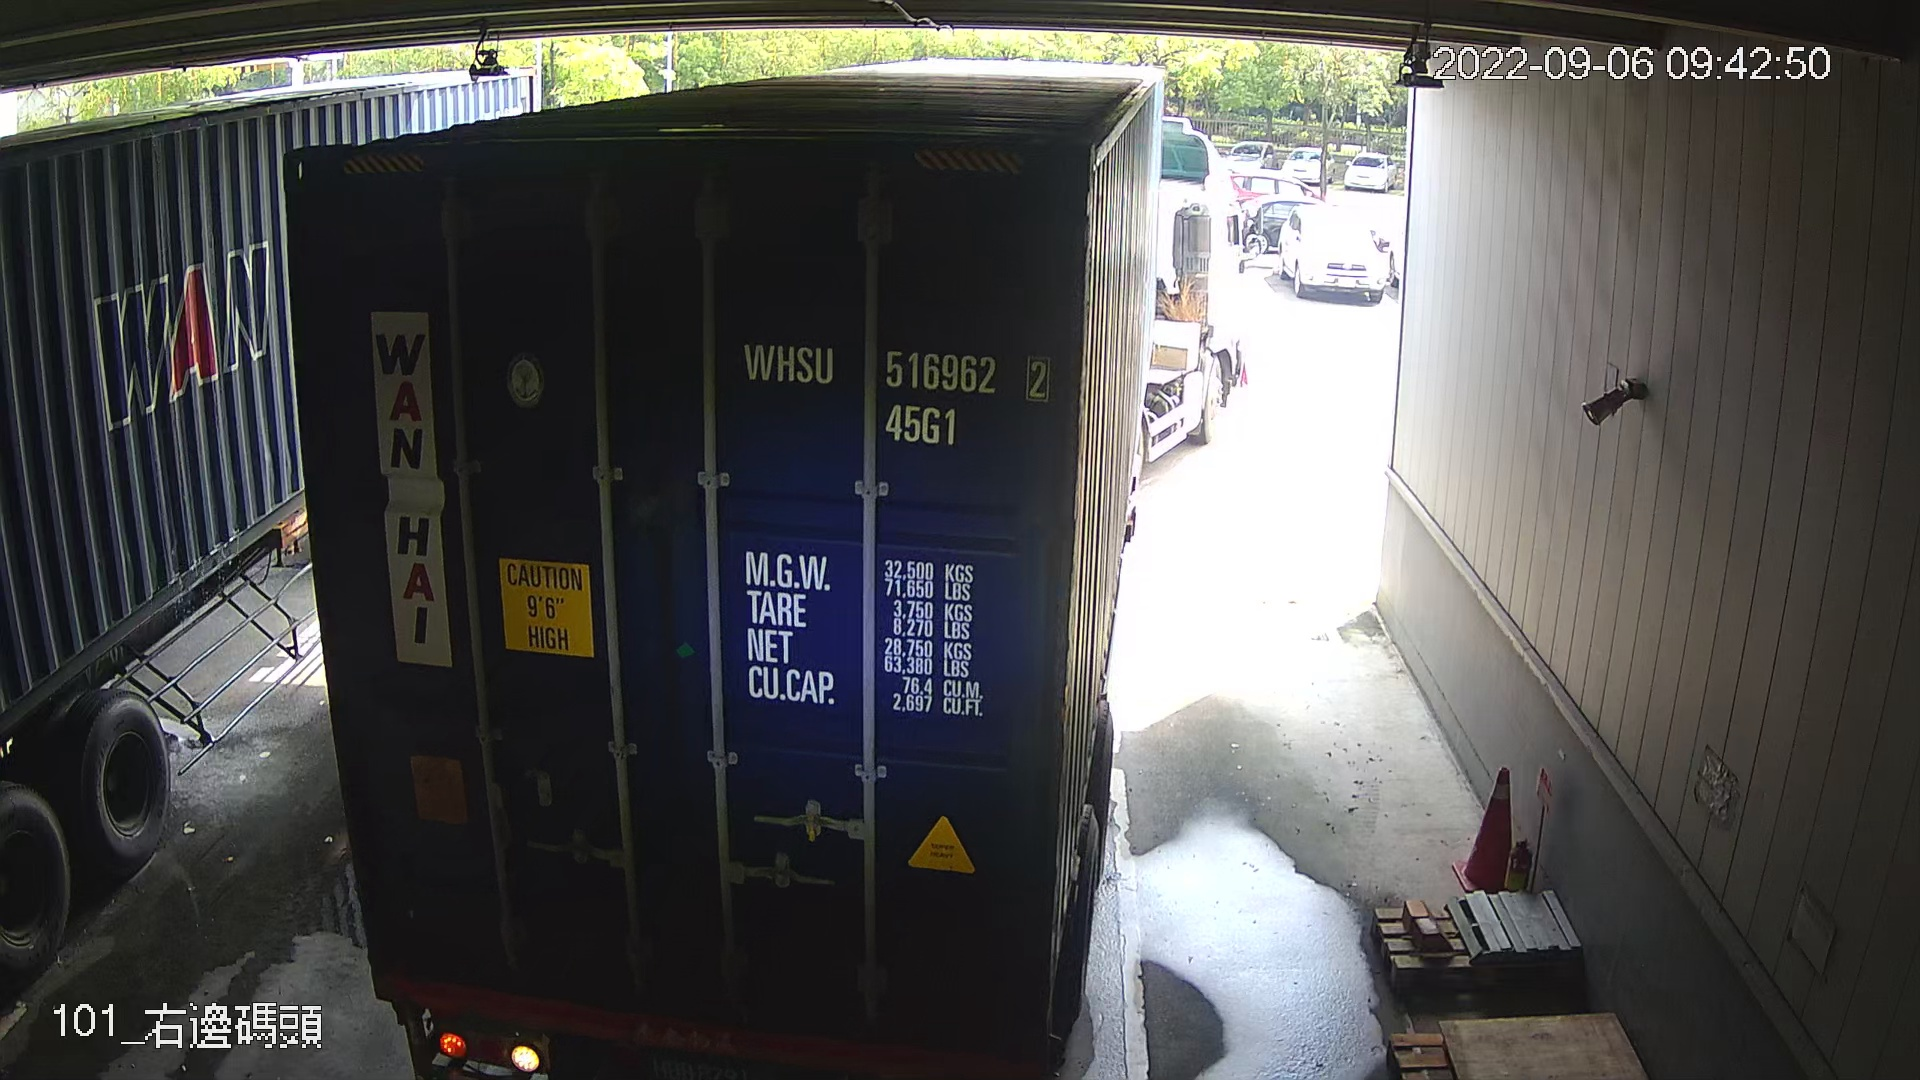container: (735, 319, 1064, 460)
